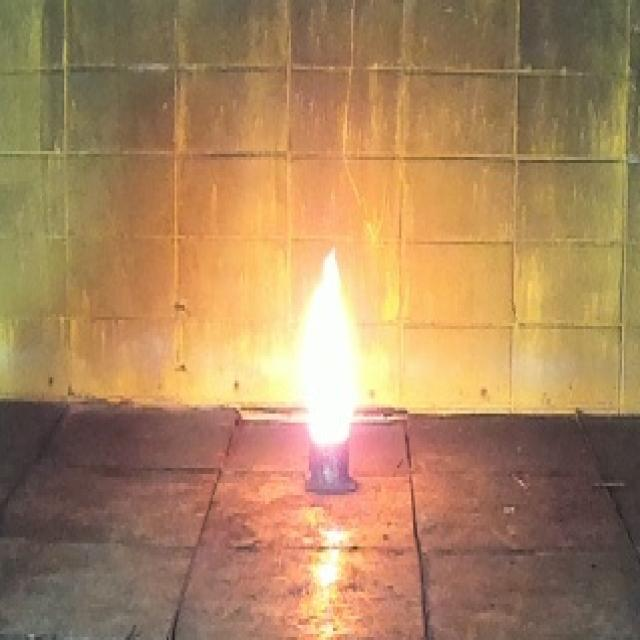Fire: (303, 246, 354, 444)
